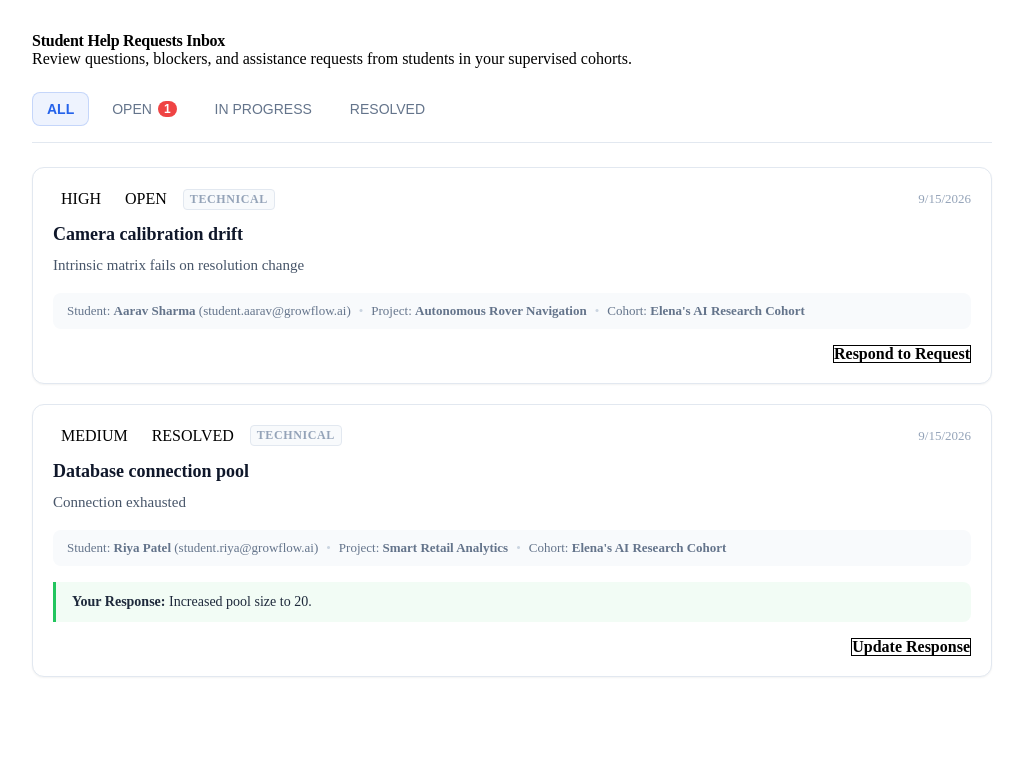
Phase 7 Batch 5: Communication, Help Requests, Notes & Groups › MentorHelpRequests Component (M33) › renders list of help requests and filters by status
Expected: the heading "Camera calibration drift" is shown, [53,224,243,244]
Expected: the heading "Database connection pool" is shown, [53,461,249,481]
Note: Filter by OPEN
Click the button "OPEN 1". click: {"x": 144, "y": 109}
box: [97,92,192,126]
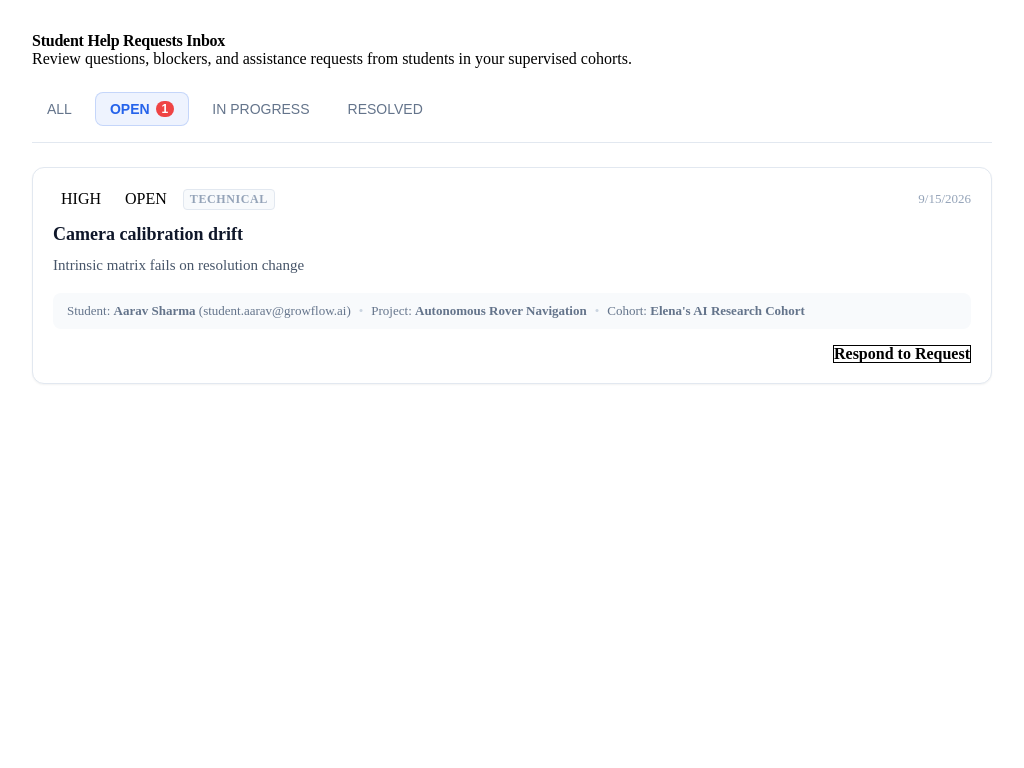
Expected: the heading "Camera calibration drift" is shown, [53,224,243,244]
Expected: the heading "Database connection pool" is gone
